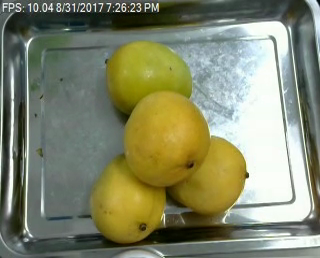Mango: (121, 89, 212, 186), (89, 153, 169, 245), (161, 133, 248, 214), (105, 40, 195, 118)
